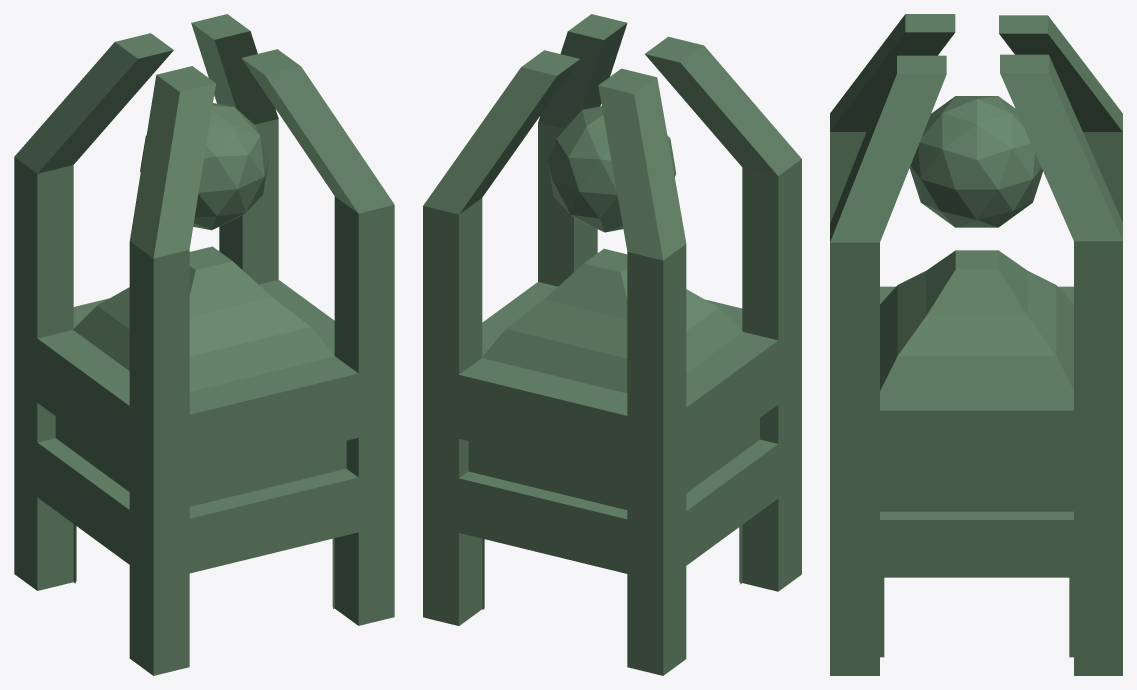
File: Algo.fbx
3 renders of one model, left to right at view 1: azimuth 30°, elevation 25°; view 2: azimuth 150°, elevation 25°; view 3: azimuth 270°, elevation 25°, orthographic. The views are drawn at different scales.
Parts seen in each view (by area): view 1: Cube; view 2: Cube; view 3: Cube.
Part boxes in pixels (<box>): Cube: <box>14,14,394,675</box>; Cube: <box>423,14,801,675</box>; Cube: <box>830,14,1122,675</box>.
Size of the model in its own units: 200 by 430 by 200.
